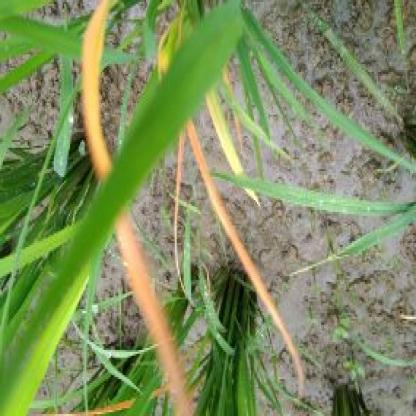Tungro: (80, 33, 165, 400)
